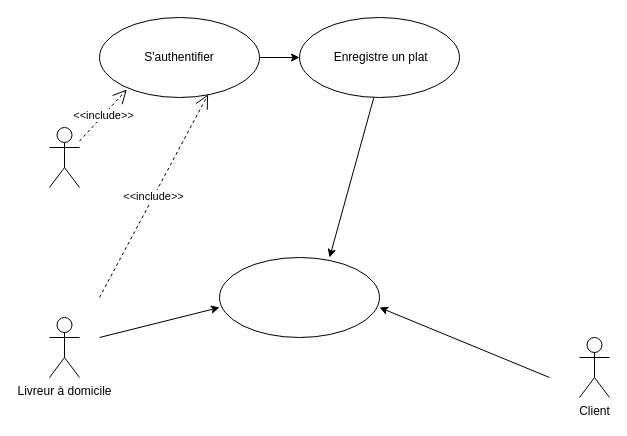
Image size: 627x436. Some labels were removed from this diagram. The box of each missing label's shape, as (x1, y1, x2, y2) in pixels:
chef expérimenté: (48, 126, 80, 188)
consulte le menu: (218, 256, 380, 338)
